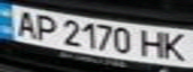0: (112, 25, 136, 55)
1: (78, 19, 96, 51)
2: (57, 17, 81, 48)
7: (93, 21, 115, 52)
A: (9, 7, 42, 38)
H: (136, 27, 172, 60)
K: (160, 30, 193, 63)
P: (30, 12, 60, 42)
